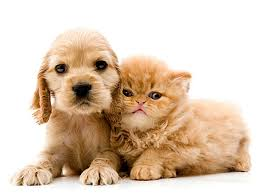cat: (105, 50, 194, 132)
dog: (29, 27, 126, 126)
